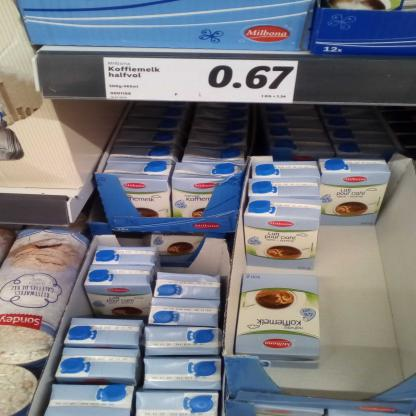prtg: (104, 58, 299, 104)
